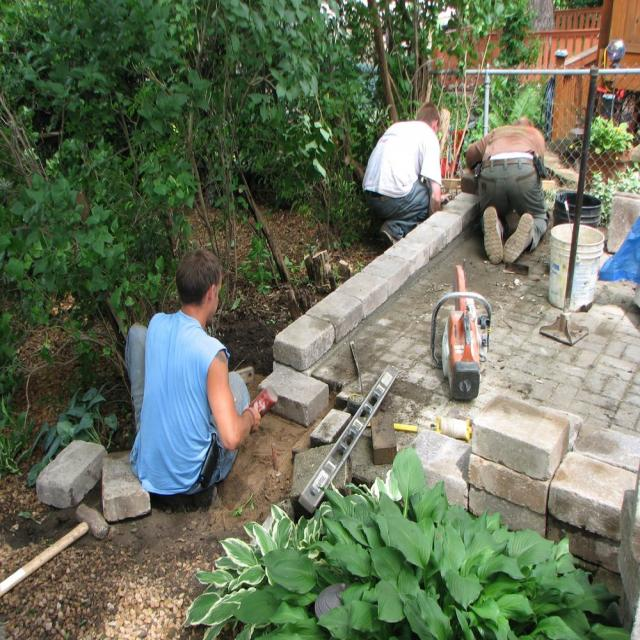brick: (36, 439, 108, 508), (258, 365, 329, 426), (101, 452, 151, 524), (370, 414, 397, 464)
bricks: (406, 395, 640, 595), (274, 192, 478, 372)
plant: (232, 446, 632, 640), (162, 0, 320, 316)
plastic barrel: (548, 224, 604, 313)
